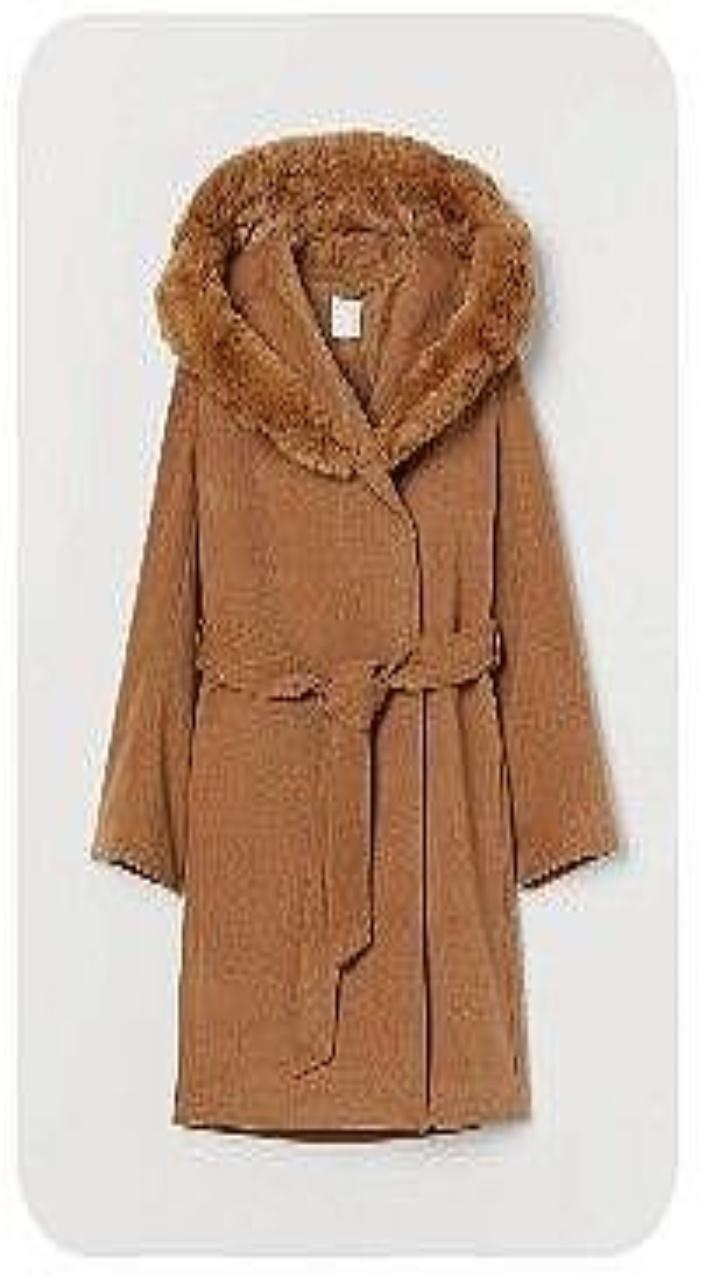Coat: (93, 131, 616, 1132)
